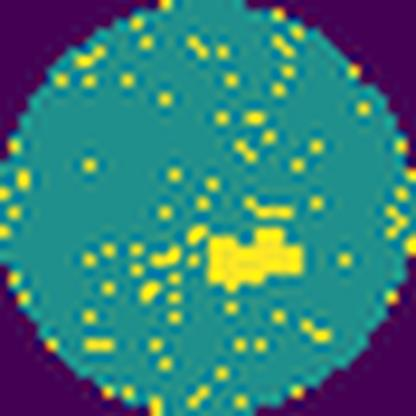Loc: (204, 225, 306, 292)
